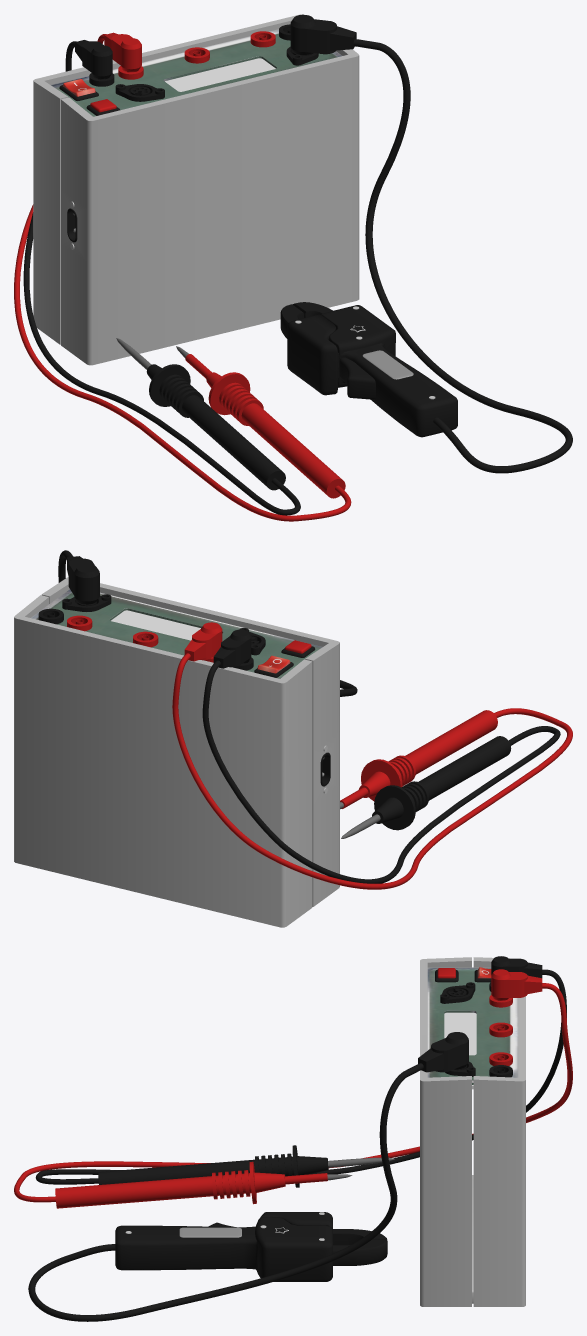
Rendered from Parma2.fbx.
3 views of the same model, one above another, from view 1: azimuth 30°, elevation 25°; view 2: azimuth 150°, elevation 25°; view 3: azimuth 270°, elevation 25° (orthographic). The views are drawn at different scales.
Visible parts, largest first — view 1: Box04, Line06, Shape48, ChamferBox12, Line07, Line01, ChamferBox13, Cylinder37, Cylinder17, ChamferBox11, Cylinder06, Box01 (+7 smaller); view 2: Box04, Shape48, Line07, Line01, Cylinder37, Cylinder17, Cylinder06, Box01, Cylinder03, Cylinder04, Cylinder18, Cylinder46 (+3 smaller); view 3: Box04, ChamferBox12, Shape48, Line06, ChamferBox11, Cylinder37, Line07, Cylinder17, Line01, Cylinder06, Cylinder04, Tube03 (+8 smaller).
Part boxes in pixels (x1,y1,x2,y2): Box04: (33,14,359,365); Line06: (353,39,572,473); Shape48: (51,29,342,116); ChamferBox12: (338,343,457,437); Line07: (14,34,351,521); Line01: (23,41,300,515); ChamferBox13: (287,314,337,395); Cylinder37: (241,403,345,498); Cylinder17: (182,395,285,490); ChamferBox11: (320,305,395,387); Cylinder06: (290,14,356,54); Box01: (165,58,275,91); Box04: (14,577,339,927); Shape48: (31,589,322,678); Line07: (172,653,572,889); Line01: (202,660,560,883); Cylinder37: (405,710,497,774); Cylinder17: (418,736,511,800); Cylinder06: (67,556,99,604); Box01: (111,610,200,640); Cylinder03: (213,629,251,668); Cylinder04: (184,622,222,661); Cylinder18: (374,785,415,830); Cylinder46: (361,759,402,801); Box04: (420,957,525,1306); ChamferBox12: (115,1225,257,1270); Shape48: (427,967,518,1084); Line06: (28,1063,423,1321); ChamferBox11: (255,1217,332,1281); Cylinder37: (55,1173,255,1208); Line07: (14,983,572,1202); Cylinder17: (98,1156,298,1184); Line01: (35,969,566,1184); Cylinder06: (418,1032,468,1072); Cylinder04: (491,969,542,1000); Tube03: (333,1240,387,1265).
Size of the model in its own units: 441 by 334 by 652.
